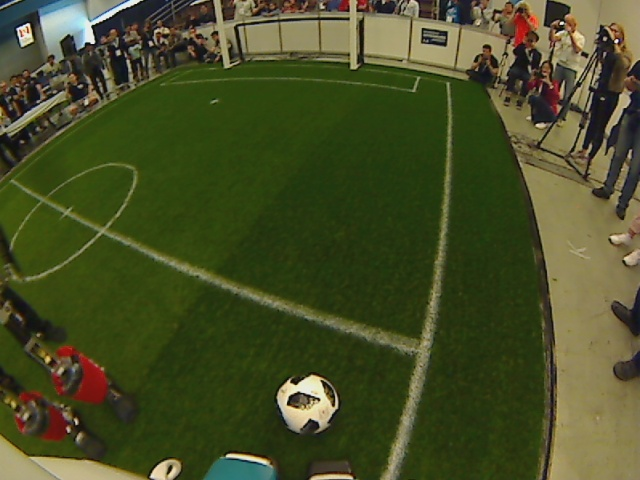ball: (274, 372, 340, 439)
goalpost: (214, 1, 358, 70)
robot: (1, 275, 141, 459)
